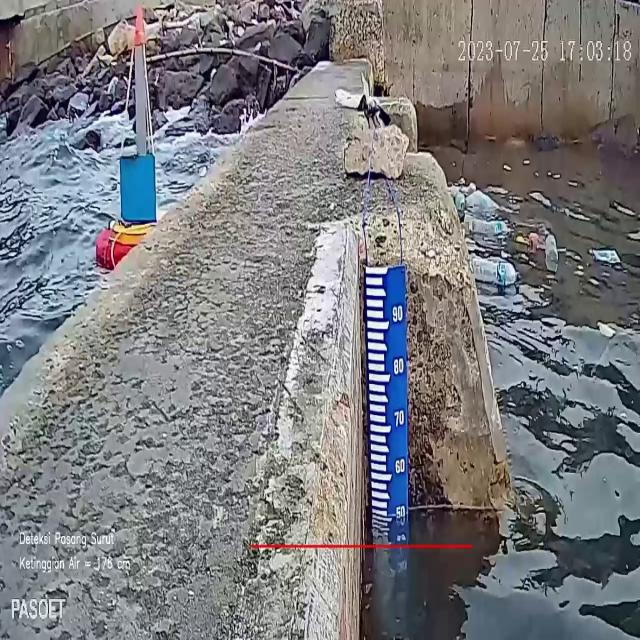60: (396, 458, 404, 476)
70: (394, 410, 404, 428)
80: (394, 357, 405, 376)
90: (392, 306, 402, 322)
staff: (366, 265, 407, 520)
